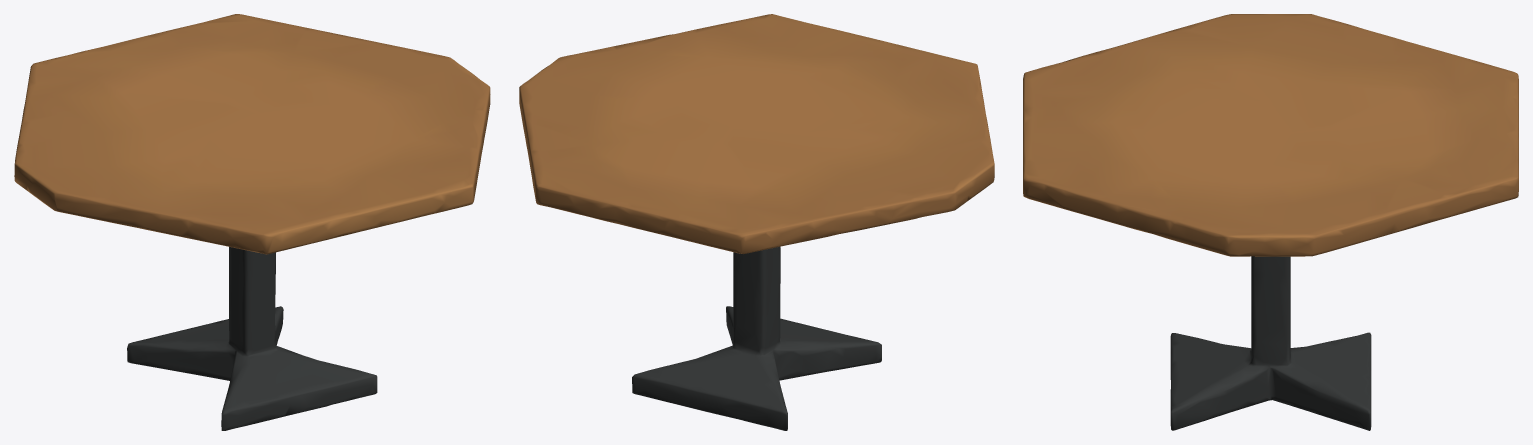
File: gen3d-cafe-table-lod0.glb
3 renders of one model, left to right at view 1: azimuth 30°, elevation 25°; view 2: azimuth 150°, elevation 25°; view 3: azimuth 270°, elevation 25°, orthographic. The views are drawn at different scales.
Parts seen in each view (by area): view 1: part_0; view 2: part_0; view 3: part_0.
Boxes of the visible parts, x1,y1,x2,y2 form: part_0: [14, 14, 490, 430]; part_0: [519, 14, 994, 430]; part_0: [1023, 14, 1518, 430].
Bounding box in the file's own units: 1.8 × 1 × 1.68.
